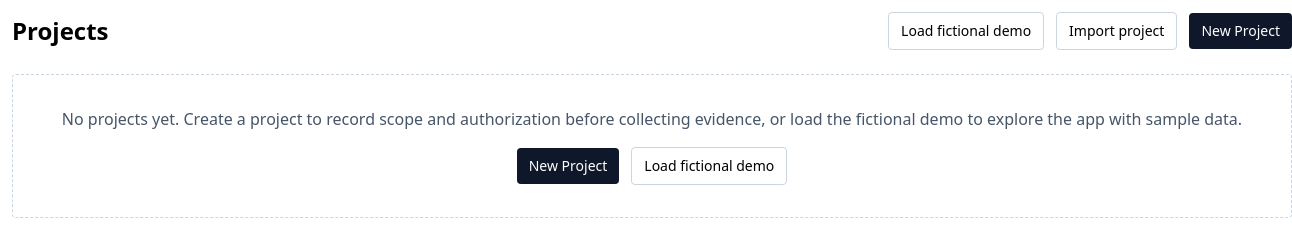
ProjectsScreen — FR-04 demo data › loads the fictional demo when none exists yet
This screenshot has width=1292, height=235.
Click the 1st button "Load fictional demo" at (966, 31), box [888,12,1044,50]
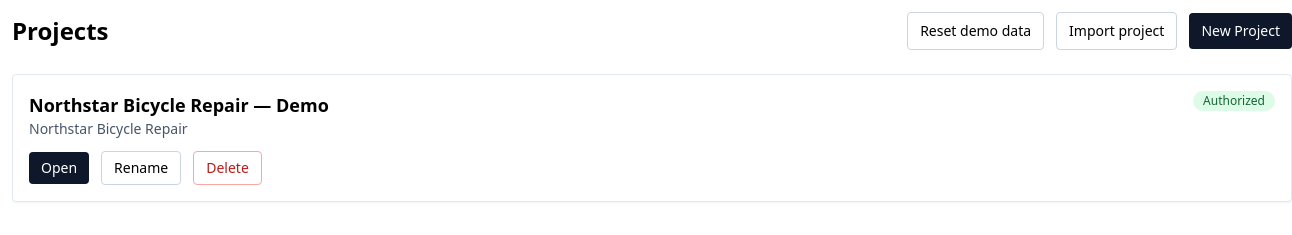
Expected: the text "Northstar Bicycle Repair" is shown, [29,119,188,138]
